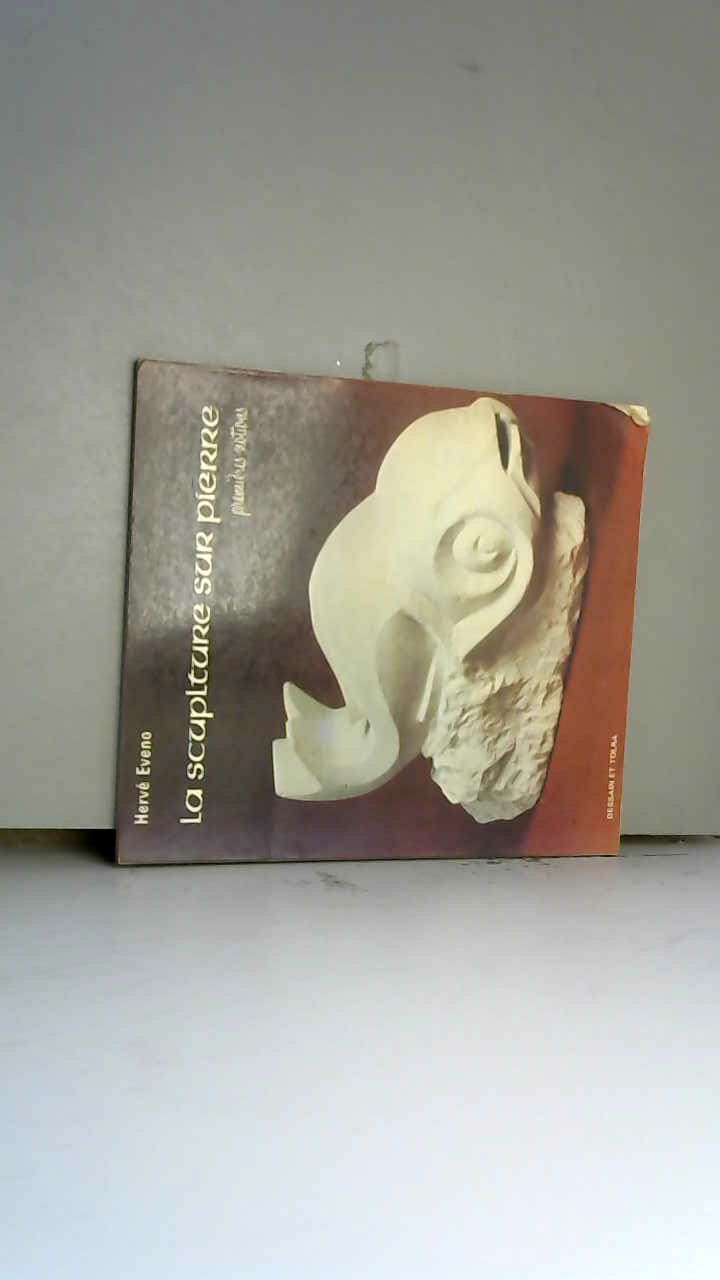book: (88, 348, 668, 892)
